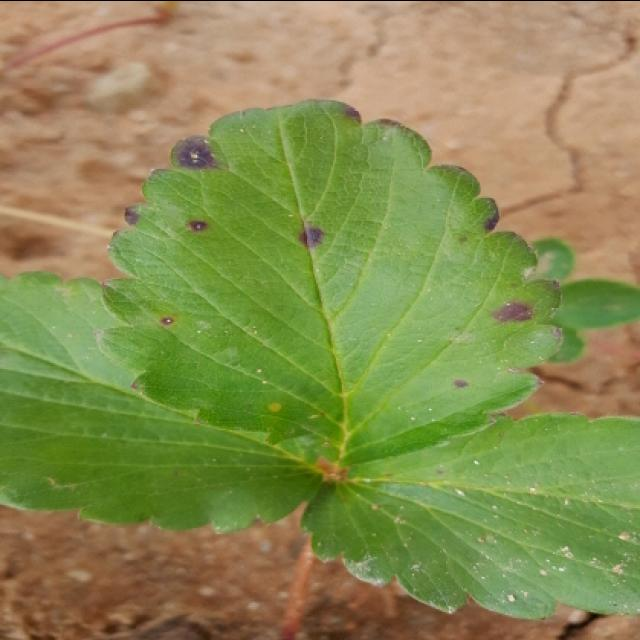Leaf Spot: (93, 99, 564, 472), (299, 411, 638, 619)
